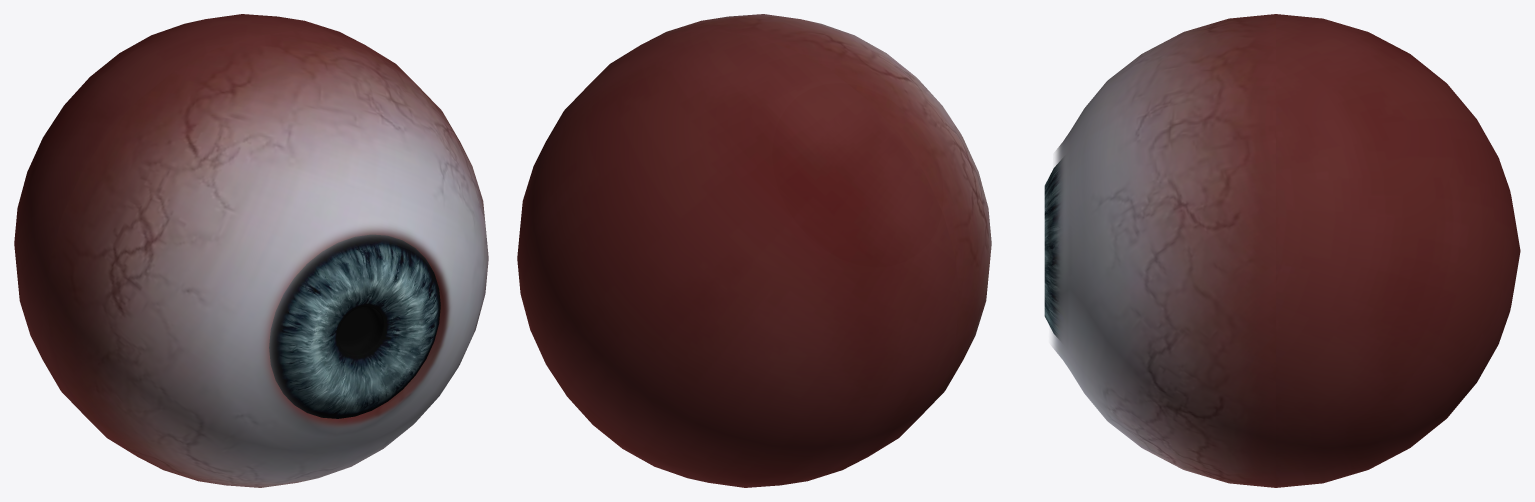
Rendered from eye_for_free.glb.
The picture shows the model from 3 angles, left to right: view 1: azimuth 30°, elevation 25°; view 2: azimuth 150°, elevation 25°; view 3: azimuth 270°, elevation 25°; orthographic projection.
Parts seen in each view (by area): view 1: Kugel_PBR.2_0, Scheibe_PBR.1_0; view 2: Kugel_PBR.2_0; view 3: Kugel_PBR.2_0, Scheibe_PBR.1_0.
Part boxes in pixels (left/top/right/bottom): Kugel_PBR.2_0: left=14, top=14, right=488, bottom=487; Scheibe_PBR.1_0: left=269, top=234, right=440, bottom=418; Kugel_PBR.2_0: left=517, top=14, right=991, bottom=487; Kugel_PBR.2_0: left=1050, top=14, right=1520, bottom=487; Scheibe_PBR.1_0: left=1044, top=159, right=1062, bottom=339.
Bounding box in the file's own units: 46.19 × 46.19 × 48.69.
2 materials, 2 textured.
